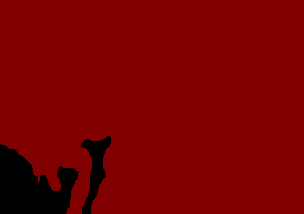Sky: (1, 1, 303, 213)
